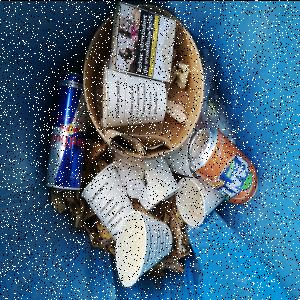Can: (189, 124, 262, 208), (45, 67, 90, 196)
Cup: (113, 209, 178, 291), (103, 67, 169, 135), (81, 159, 128, 237), (174, 176, 212, 233)
Trash: (109, 2, 181, 80)
